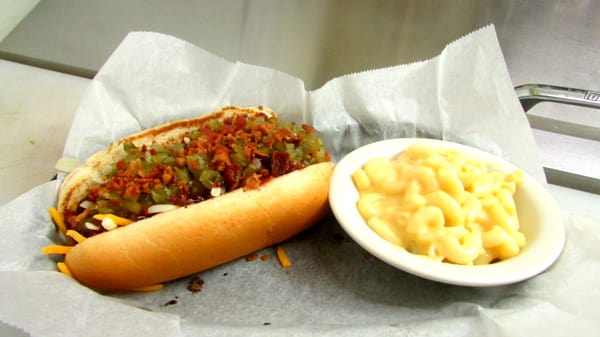sushi: (326, 137, 567, 288)
